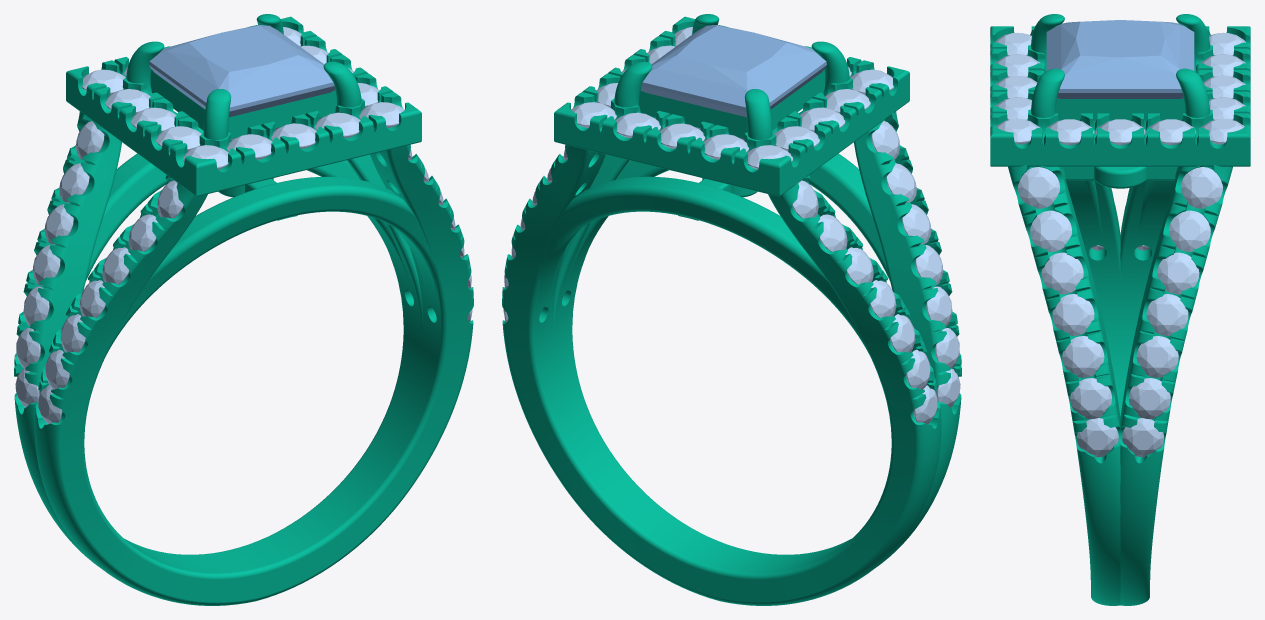
3 renders of one model, left to right at view 1: azimuth 30°, elevation 25°; view 2: azimuth 150°, elevation 25°; view 3: azimuth 270°, elevation 25°, orthographic.
Parts seen in each view (by area): view 1: JTC 13728(front).3dm, Diamond_Round (×20), Diamond_Princess; view 2: JTC 13728(front).3dm, Diamond_Round (×20), Diamond_Princess; view 3: JTC 13728(front).3dm, Diamond_Round (×27), Diamond_Princess.
Boxes of the visible parts, left/top/right/bottom form: JTC 13728(front).3dm: left=14, top=14, right=473, bottom=605; Diamond_Round (×20): left=16, top=69, right=404, bottom=389; Diamond_Princess: left=149, top=25, right=334, bottom=139; JTC 13728(front).3dm: left=502, top=14, right=961, bottom=605; Diamond_Round (×20): left=571, top=69, right=959, bottom=389; Diamond_Princess: left=641, top=25, right=826, bottom=139; JTC 13728(front).3dm: left=990, top=14, right=1250, bottom=605; Diamond_Round (×27): left=995, top=32, right=1245, bottom=457; Diamond_Princess: left=1046, top=20, right=1194, bottom=122.
Bounding box in the file's own units: 2.4 × 2.94 × 1.27.
